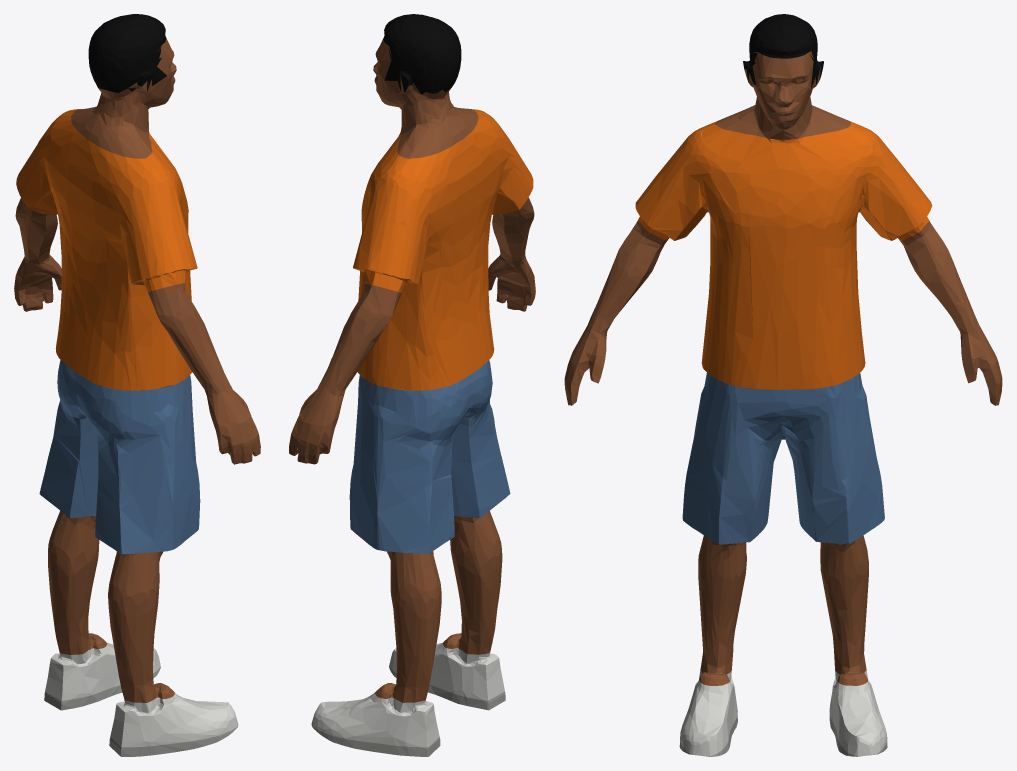
File: protagonista.glb
The picture shows the model from 3 angles, left to right: view 1: azimuth 30°, elevation 25°; view 2: azimuth 150°, elevation 25°; view 3: azimuth 270°, elevation 25°; orthographic projection. The views are drawn at different scales.
Parts seen in each view (by area): view 1: protagonista; view 2: protagonista; view 3: protagonista.
Boxes of the visible parts, <box> form: protagonista: <box>14,14,260,756</box>; protagonista: <box>289,14,535,756</box>; protagonista: <box>564,14,1002,756</box>.
Bounding box in the file's own units: 0.2209 × 1.2 × 0.6675.
